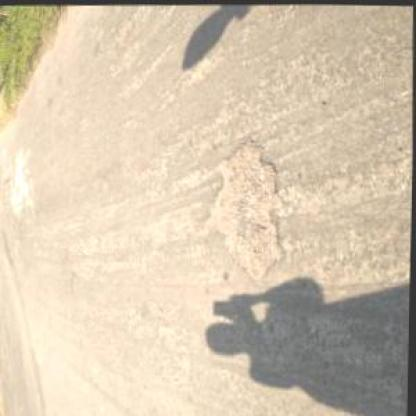pothole: (199, 133, 289, 284)
